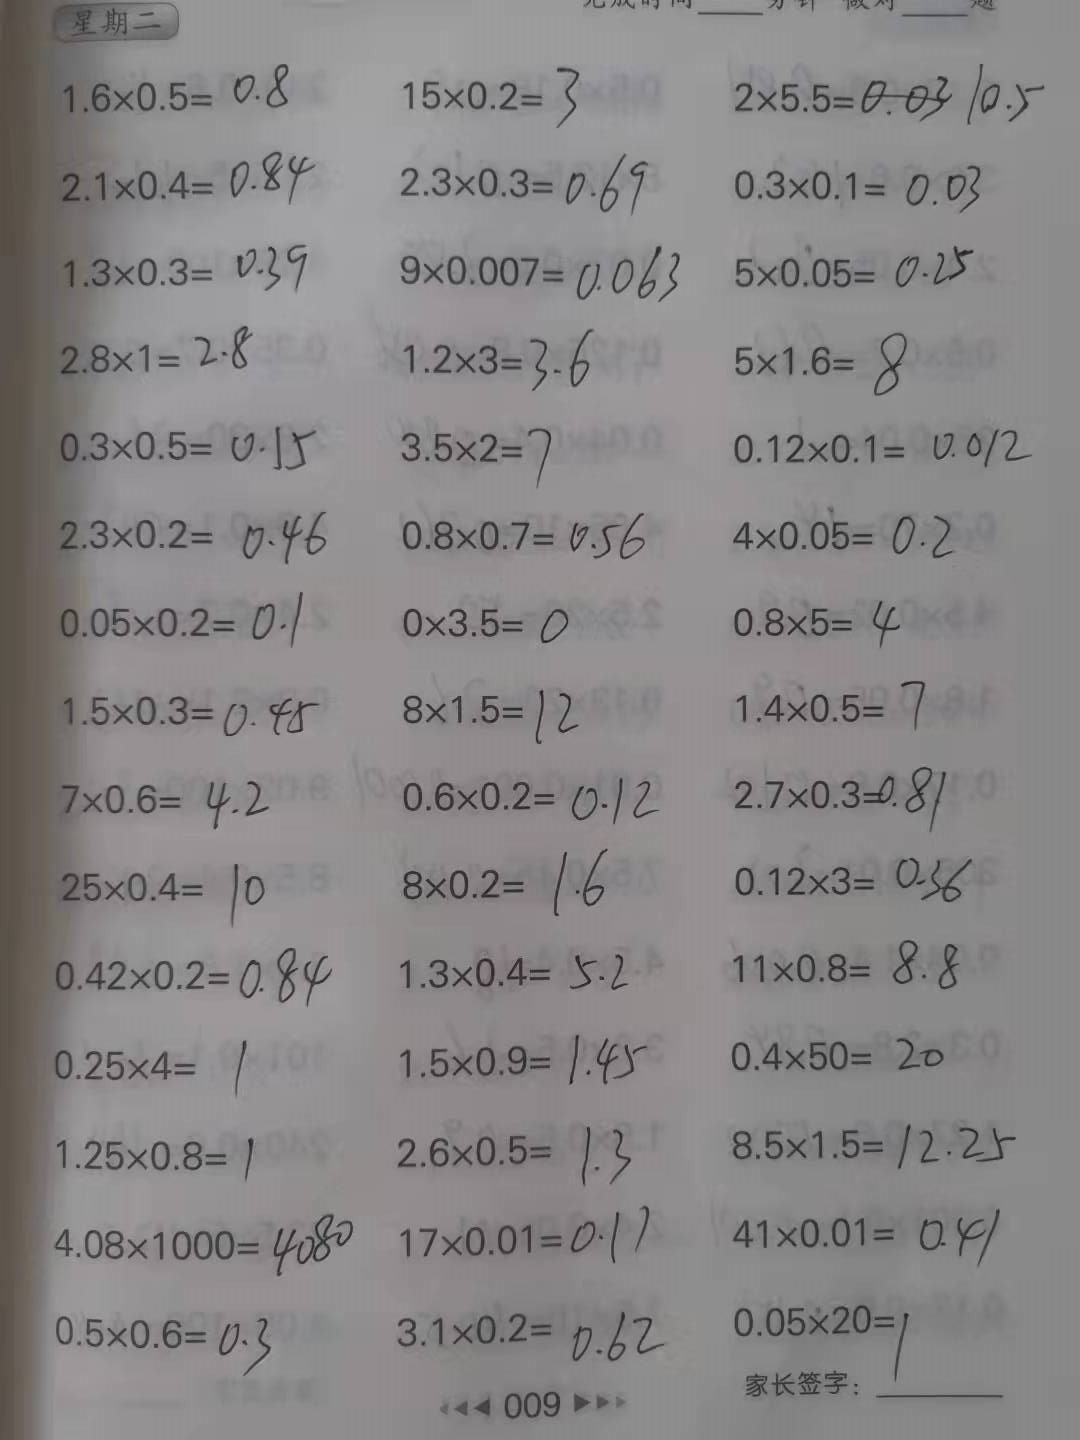equation: (718, 1107, 1026, 1180), (45, 1211, 360, 1280), (397, 1197, 668, 1276), (719, 1202, 1016, 1273), (391, 144, 655, 222), (59, 142, 320, 220), (731, 65, 1056, 127), (49, 498, 341, 564), (390, 246, 696, 308), (726, 149, 993, 220), (396, 841, 618, 926), (731, 418, 1042, 478), (395, 1025, 657, 1096), (393, 1116, 640, 1191), (44, 946, 340, 1008), (726, 495, 964, 572), (44, 1305, 298, 1377), (725, 928, 975, 1001), (723, 1286, 923, 1374), (396, 768, 665, 832), (49, 860, 281, 934), (396, 934, 632, 1006), (392, 1301, 672, 1361), (45, 416, 323, 476), (729, 845, 984, 909), (59, 55, 298, 123), (55, 234, 316, 296), (399, 506, 664, 567), (43, 1124, 268, 1195), (55, 687, 324, 746), (398, 320, 605, 396), (47, 591, 315, 649), (724, 768, 956, 835), (398, 51, 591, 131), (723, 244, 992, 301), (729, 664, 935, 738), (50, 768, 284, 831), (41, 1031, 253, 1100), (725, 1020, 957, 1083), (727, 325, 904, 405), (53, 316, 260, 383), (392, 411, 560, 488), (393, 682, 595, 746), (718, 590, 909, 655), (393, 594, 580, 649)
